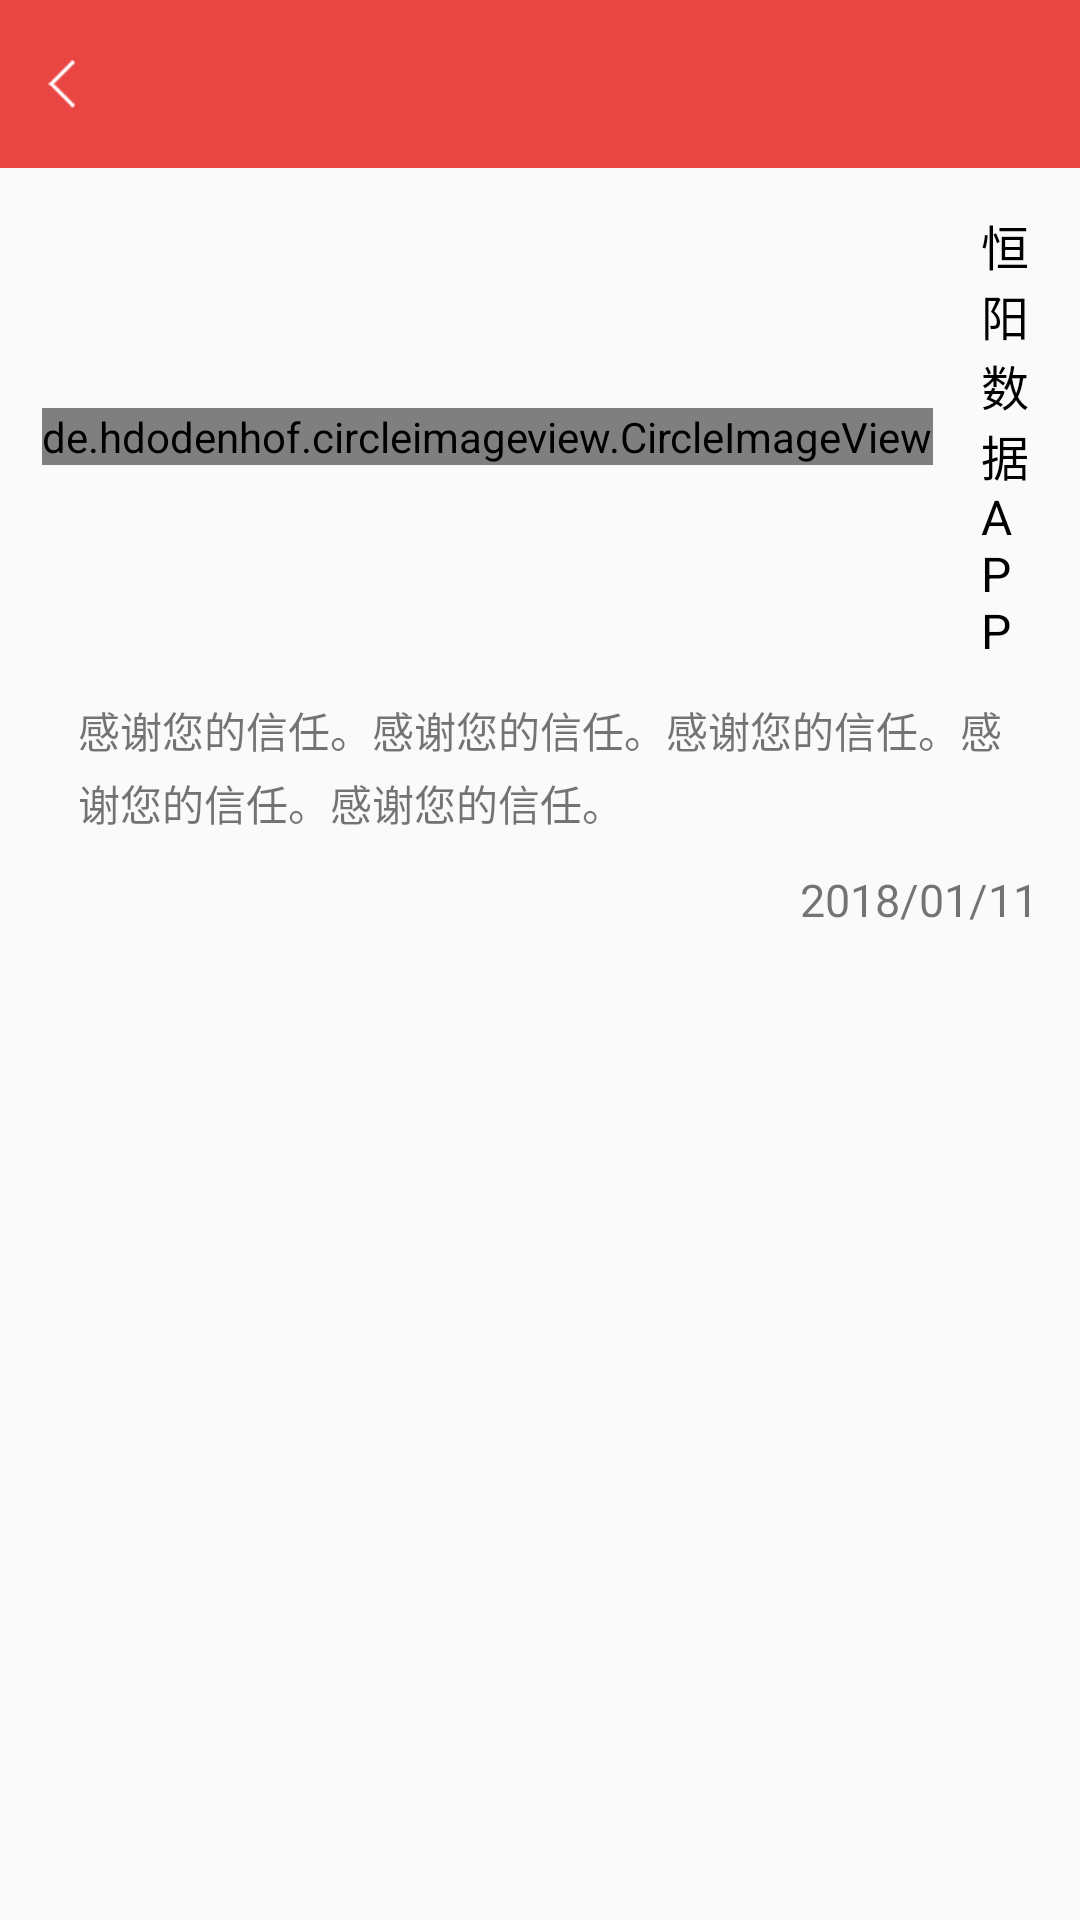

Named icons in this screenshot (1080x1920) and their centers, (x,y):
back: (61,84)
